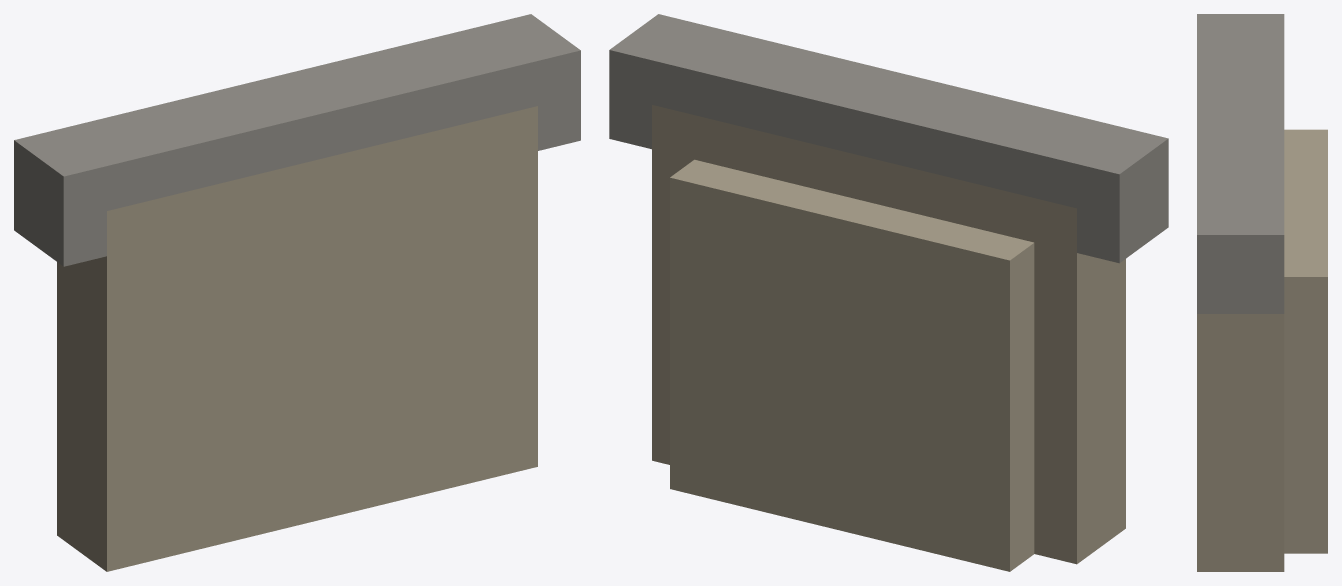
Rendered from toalla_lana_01.glb.
The picture shows the model from 3 angles, left to right: view 1: azimuth 30°, elevation 25°; view 2: azimuth 150°, elevation 25°; view 3: azimuth 270°, elevation 25°; orthographic projection. The views are drawn at different scales.
Visible parts, largest first — view 1: toalla_lana; view 2: toalla_lana; view 3: toalla_lana.
Boxes of the visible parts, <box> form: toalla_lana: <box>14,14,580,571</box>; toalla_lana: <box>609,14,1168,571</box>; toalla_lana: <box>1197,14,1327,571</box>.
Size of the model in its own units: 0.9231 by 0.6923 by 0.2308.
